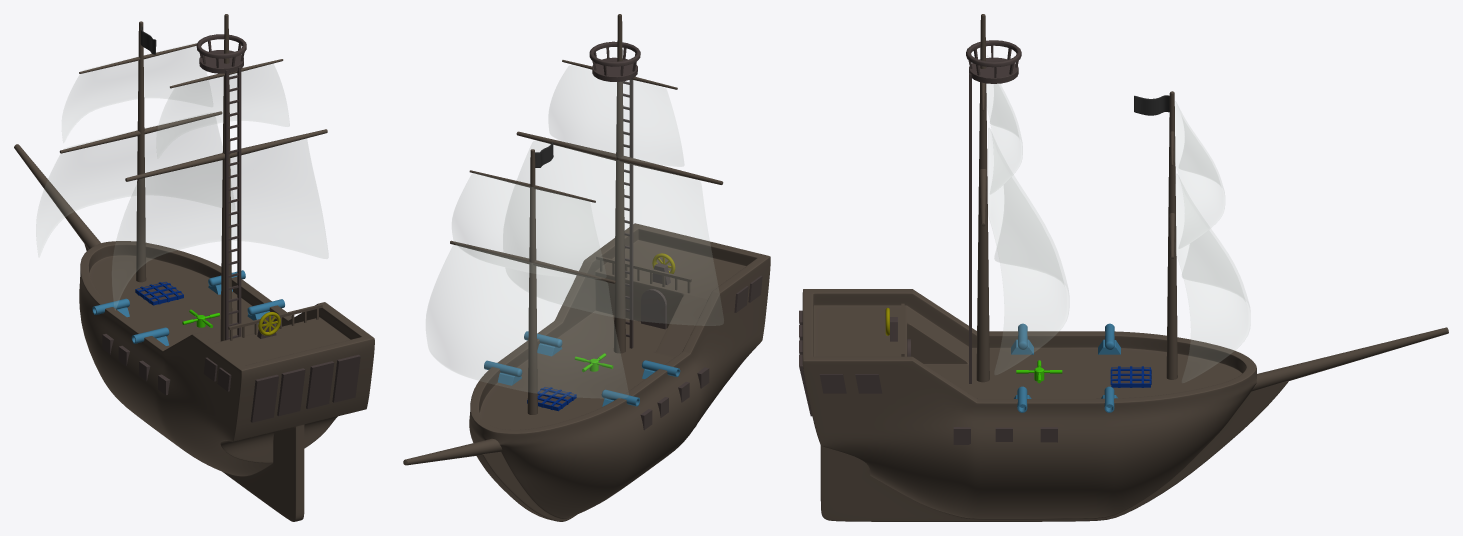
File: Blocking_Boat_02.fbx
3 renders of one model, left to right at view 1: azimuth 30°, elevation 25°; view 2: azimuth 150°, elevation 25°; view 3: azimuth 270°, elevation 25°, orthographic. The views are drawn at different scales.
Visible parts, largest first — view 1: Base_Boat_02, Malt_R, Malt_F, Hold; view 2: Base_Boat_02, Malt_R, Malt_F, Hold, Canon_03, Canon_04; view 3: Base_Boat_02, Malt_R, Malt_F, Hold.
Part boxes in pixels (x1=…): Base_Boat_02: x1=14, y1=144, x2=374, y2=521; Malt_R: x1=112, y1=14, x2=327, y2=341; Malt_F: x1=36, y1=21, x2=234, y2=282; Hold: x1=135, y1=282, x2=183, y2=305; Base_Boat_02: x1=403, y1=223, x2=770, y2=521; Malt_R: x1=503, y1=14, x2=723, y2=353; Malt_F: x1=426, y1=142, x2=628, y2=414; Hold: x1=527, y1=387, x2=576, y2=411; Canon_03: x1=484, y1=360, x2=522, y2=385; Canon_04: x1=524, y1=331, x2=562, y2=356; Base_Boat_02: x1=799, y1=289, x2=1448, y2=521; Malt_R: x1=966, y1=14, x2=1068, y2=383; Malt_F: x1=1134, y1=91, x2=1249, y2=382; Hold: x1=1110, y1=366, x2=1151, y2=387.
Size of the model in its own units: 8.05 by 16.38 by 19.09.
